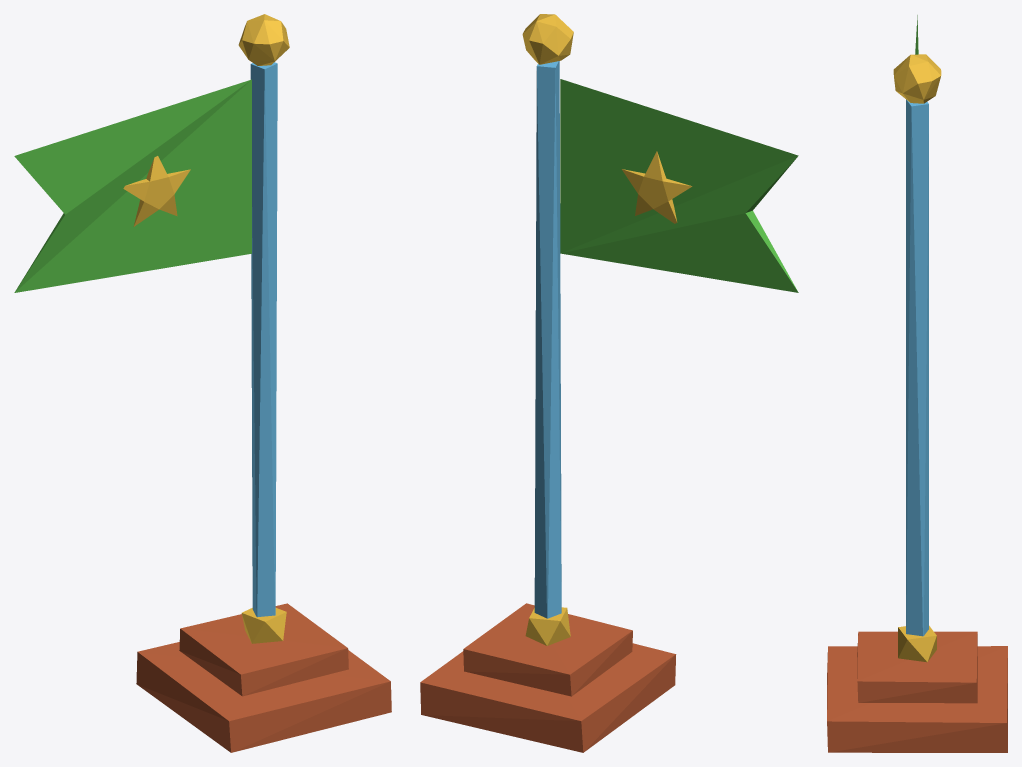
Rendered from goal_flag_lod1.obj.
3 renders of one model, left to right at view 1: azimuth 30°, elevation 25°; view 2: azimuth 150°, elevation 25°; view 3: azimuth 270°, elevation 25°, orthographic. The views are drawn at different scales.
Parts seen in each view (by area): view 1: goal_flag_lod1; view 2: goal_flag_lod1; view 3: goal_flag_lod1.
Part boxes in pixels (x1,y1,x2,y2): goal_flag_lod1: (14, 14, 391, 752); goal_flag_lod1: (420, 14, 798, 752); goal_flag_lod1: (827, 15, 1007, 752).
Bounding box in the file's own units: 1.77 × 3.48 × 0.8667.
